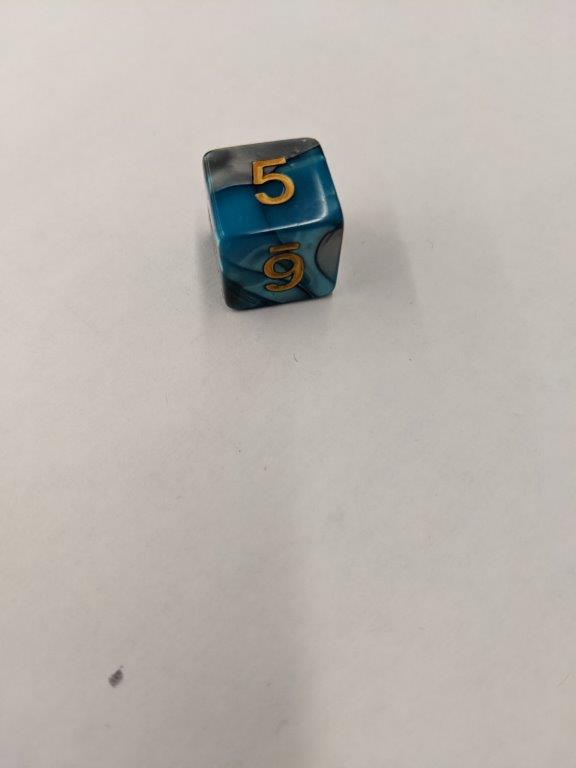d6-5: (205, 138, 344, 316)
